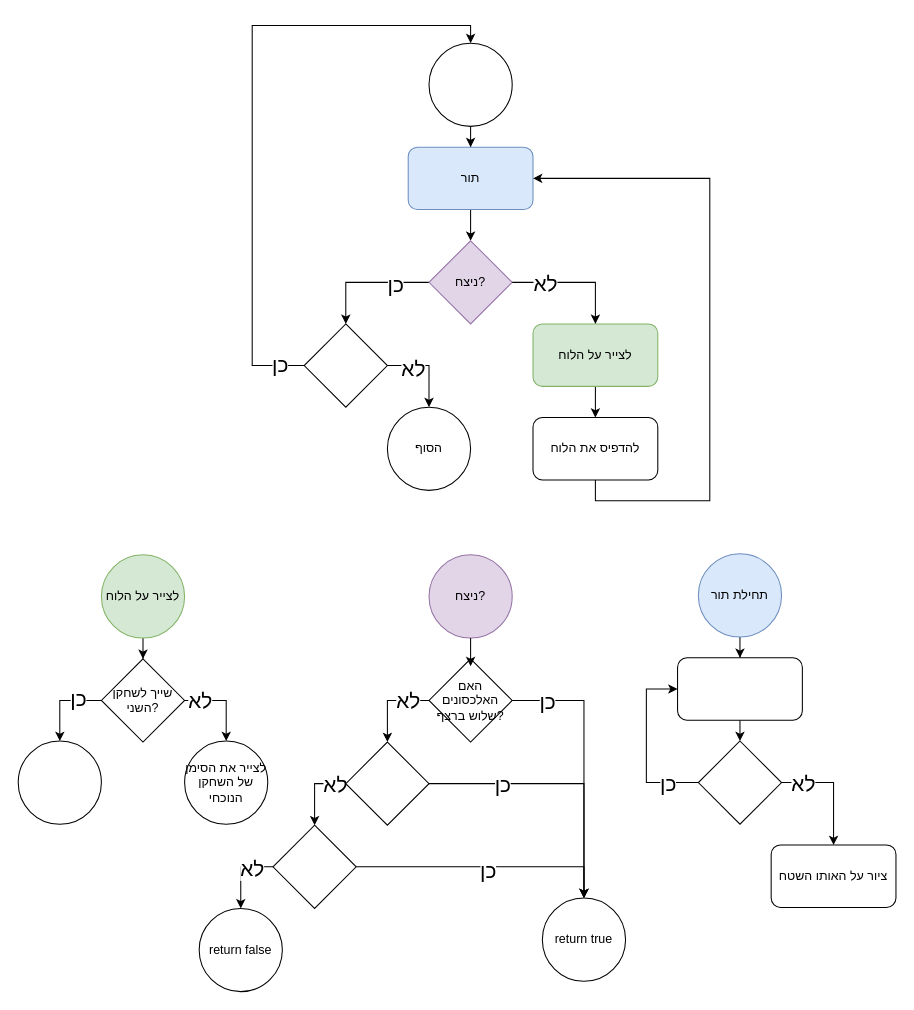
This 914x1010 diagram has some shape labels left out. Each missing label, with the box of its shape:
האם לצדדים 3 ברצף?: (272, 824, 356, 908)
האם מלמעלה למטה 3 ברצף?: (345, 741, 429, 825)
התחלה: (428, 42, 512, 126)
לשחק שוב?: (303, 323, 387, 407)
צייר +: (17, 740, 101, 824)
קליטה של מיקום: (677, 657, 802, 720)
שייך לשחקן הנוכחי?: (697, 740, 782, 824)
